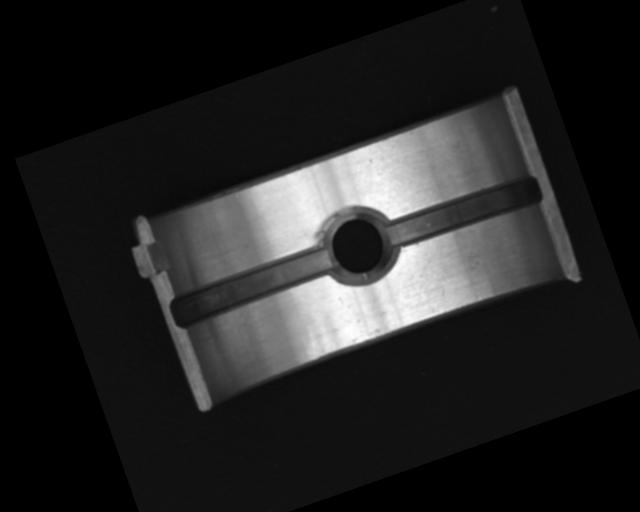gap: (166, 240, 337, 333), (382, 171, 545, 253)
hole: (308, 193, 408, 298)
